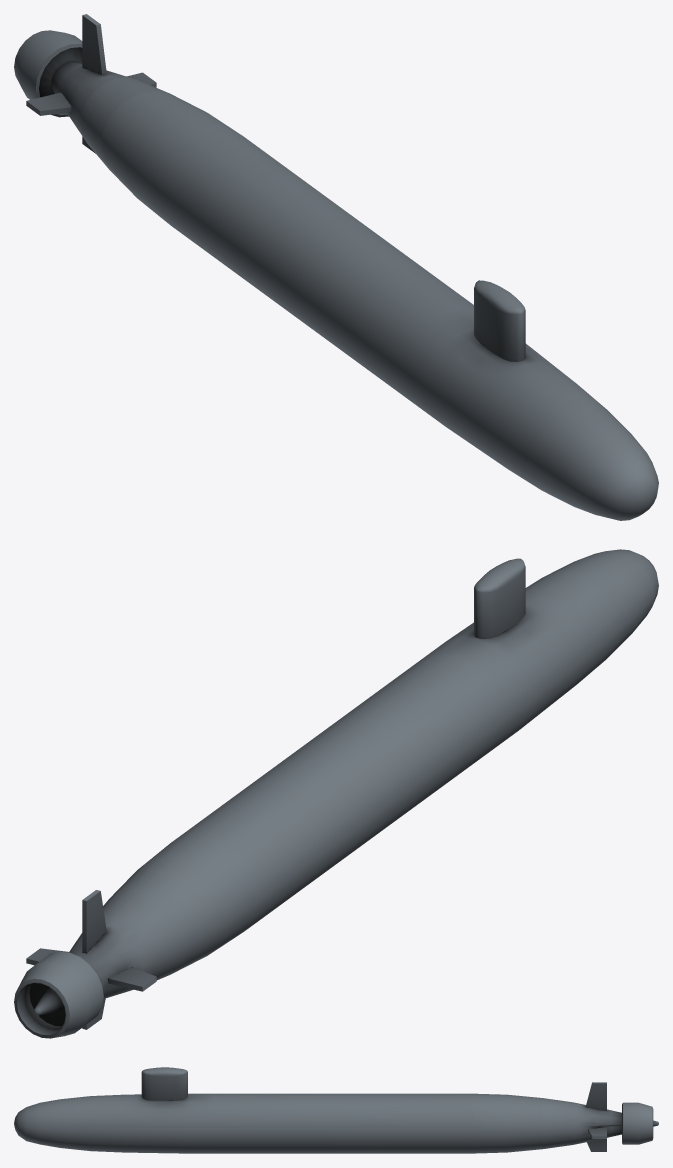
The model's file is submarine_test.fbx.
3 renders of one model, top to bottom at view 1: azimuth 30°, elevation 25°; view 2: azimuth 150°, elevation 25°; view 3: azimuth 270°, elevation 25°, orthographic. The views are drawn at different scales.
Visible parts, largest first — view 1: polySurface5; view 2: polySurface5; view 3: polySurface5.
Part boxes in pixels (<box>): polySurface5: <box>14,14,658,520</box>; polySurface5: <box>14,549,658,1038</box>; polySurface5: <box>14,1067,658,1153</box>.
Size of the model in its own units: 12.71 by 16.19 by 114.
